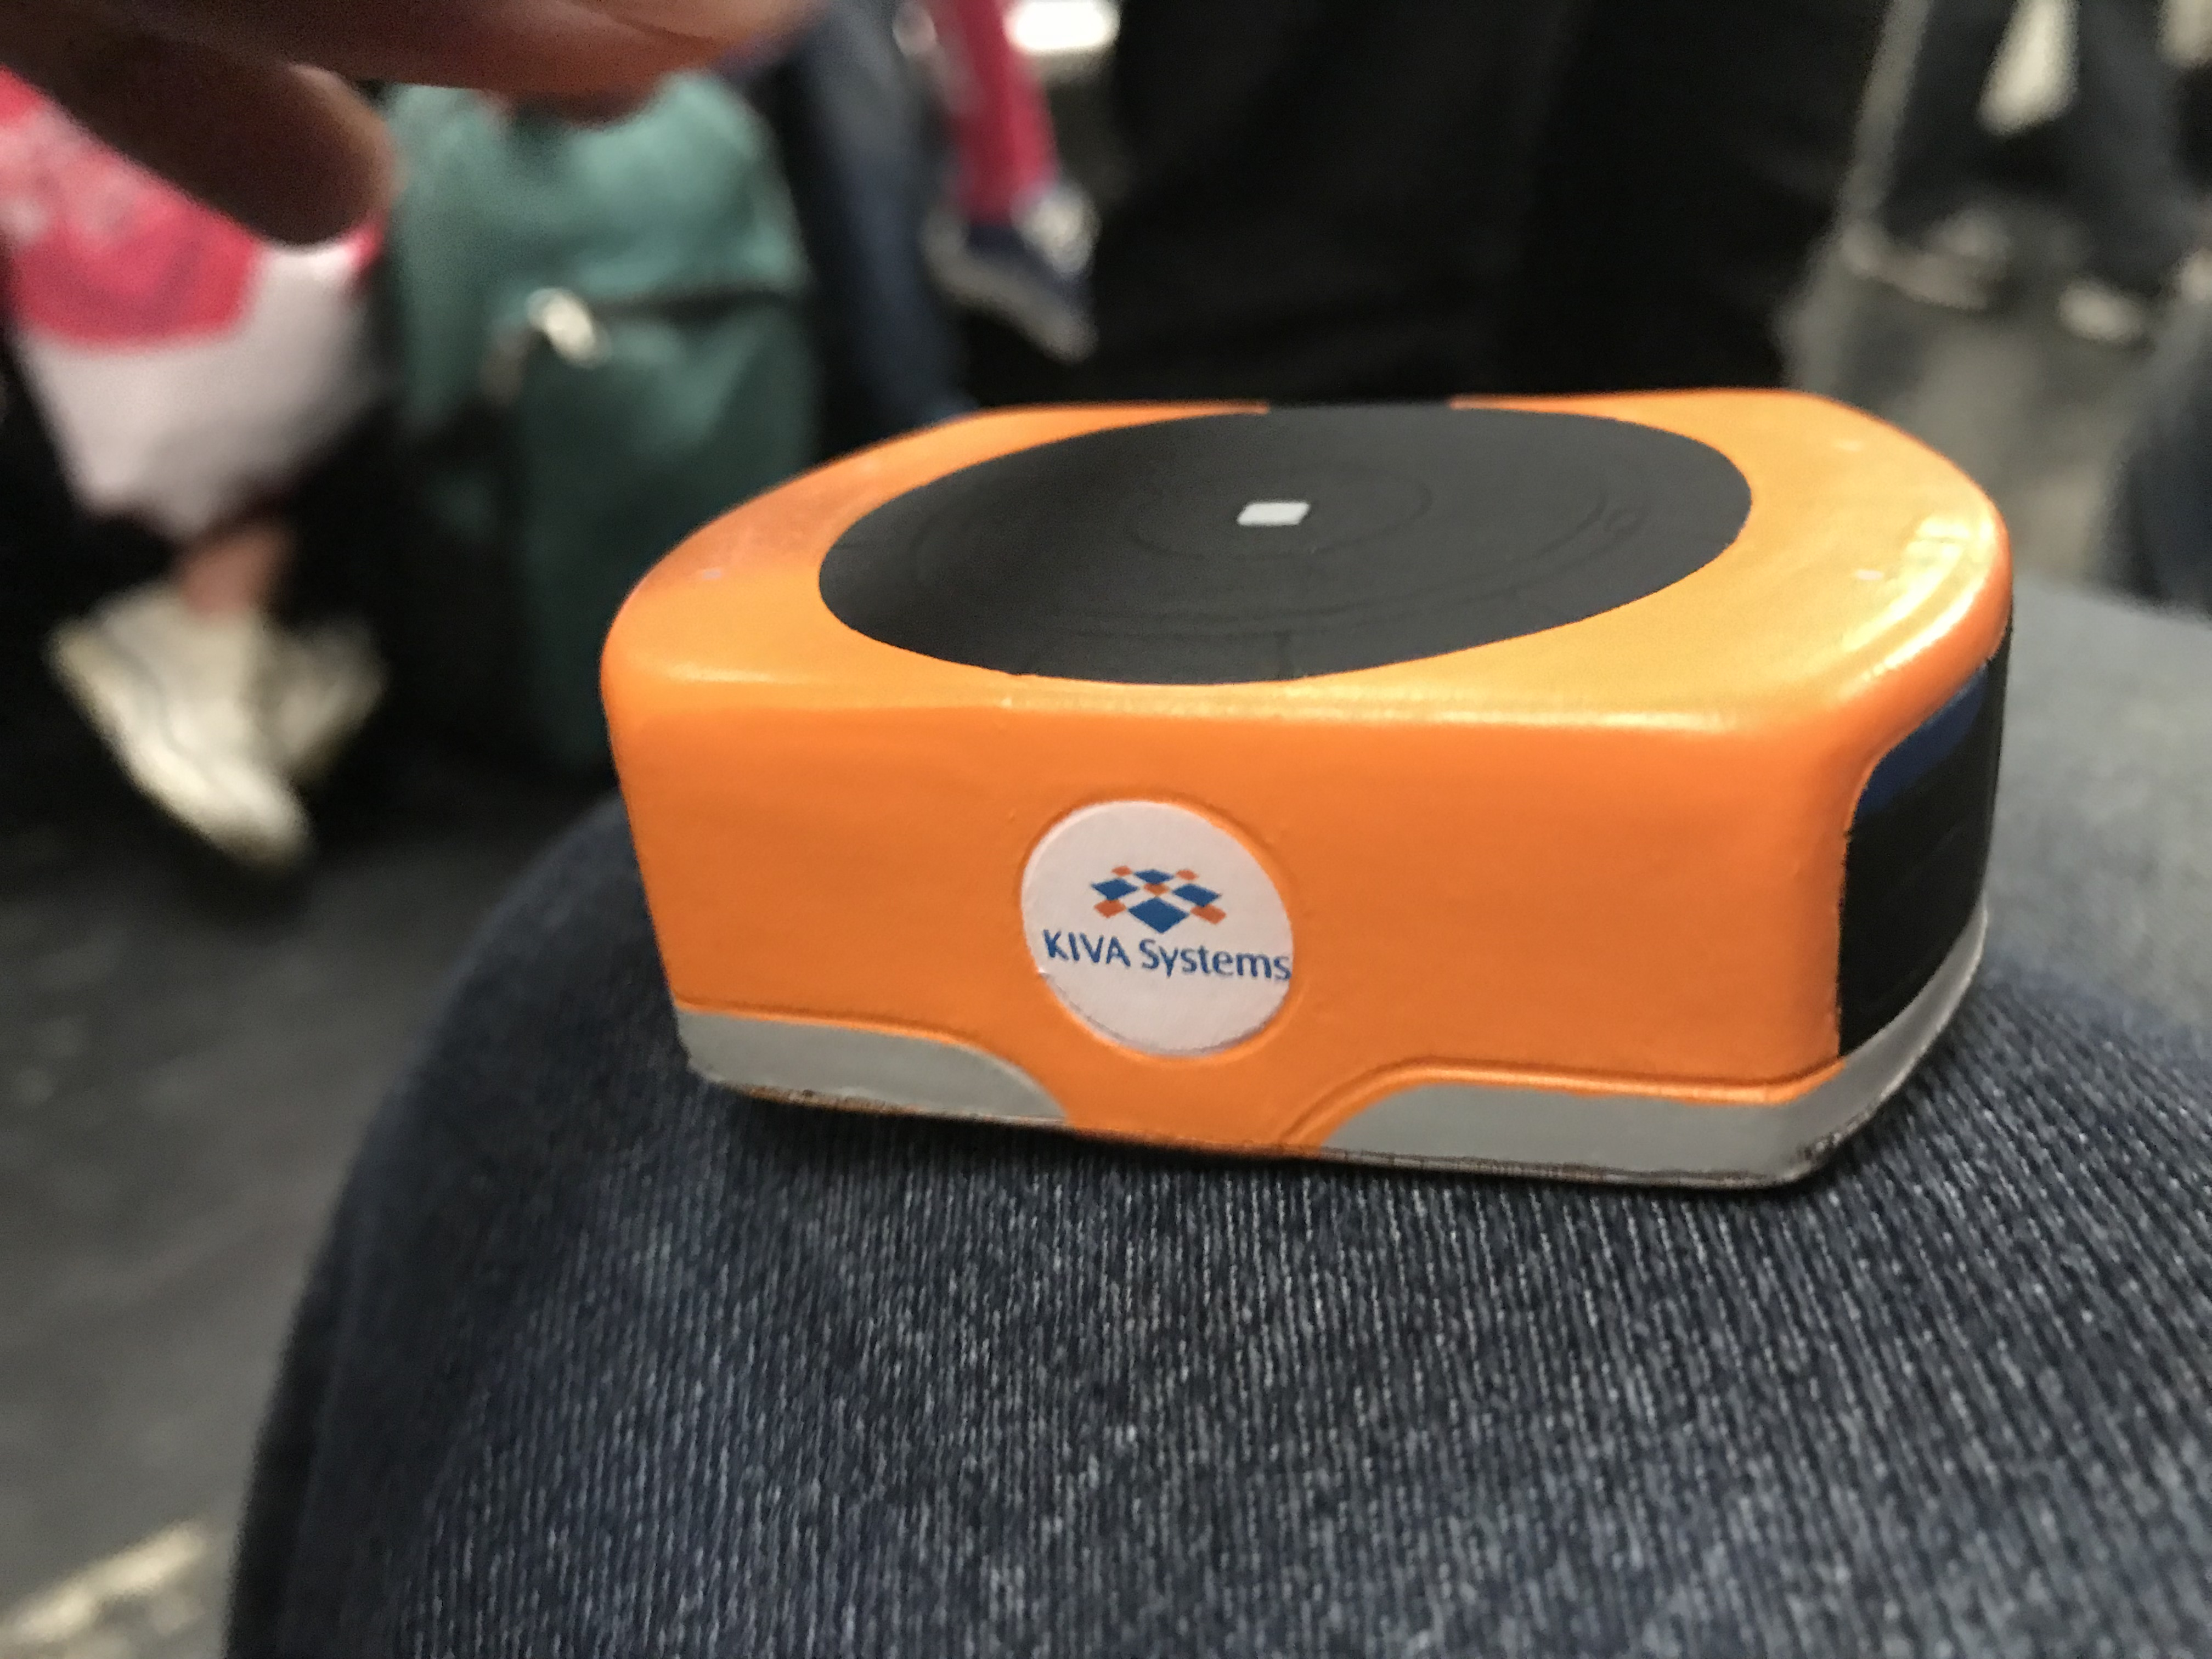amazon_bot: (592, 380, 2036, 1237)
